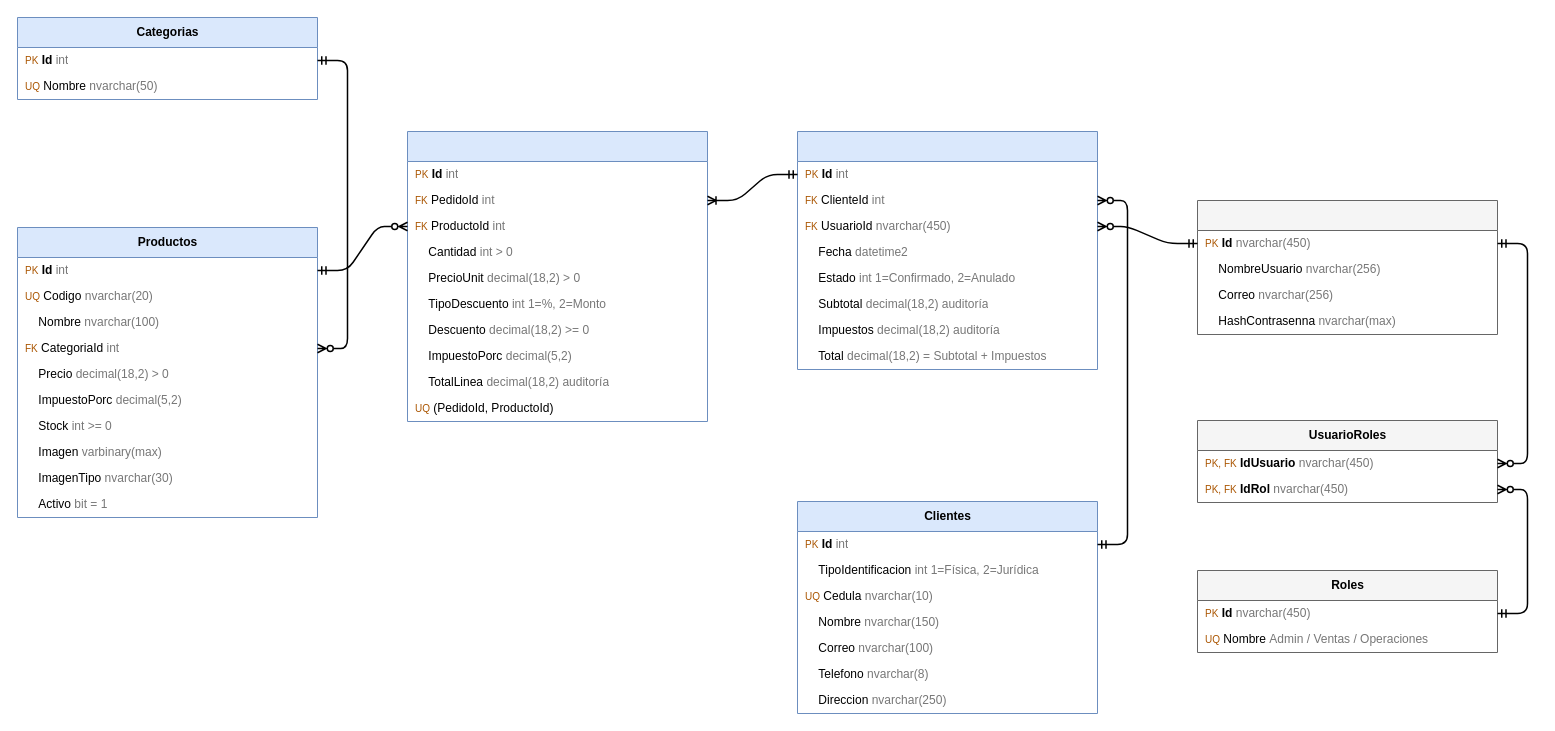
Image size: 1555x731. Some labels were removed from this diagram. Here are the shapes that lost their labels. From the top down, the box of each, then its label:
(796, 130, 1098, 370): Pedidos
(1196, 200, 1498, 334): Usuarios
(406, 130, 708, 422): PedidoDetalles
